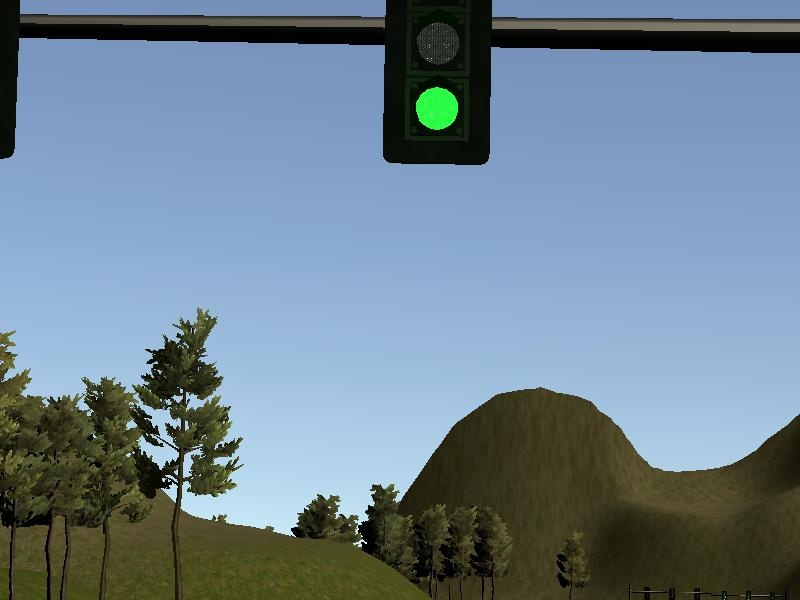traffic_light_green: (1, 1, 798, 171)
